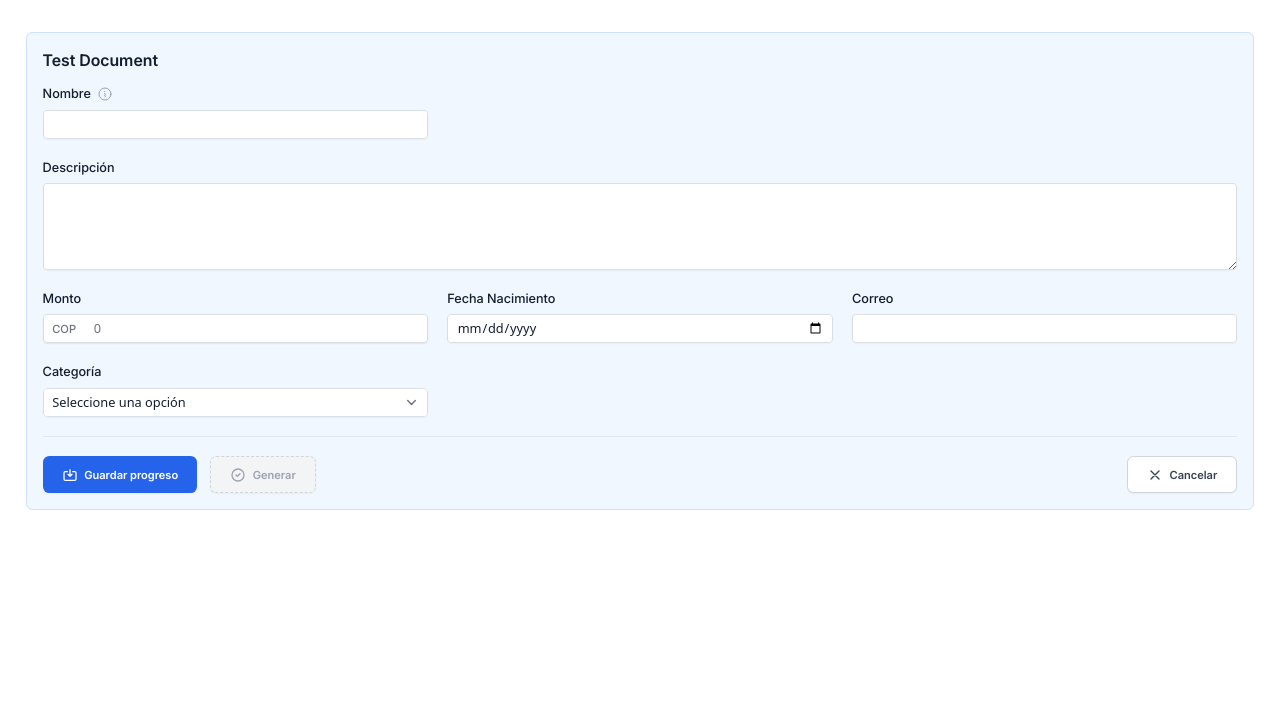
Scenario: DocumentForm.vue › complete/generate button becomes enabled when all fields are filled
This screenshot has width=1280, height=720.
# quality: allow-fragile-selector (stable DOM ids generated by component for each field)
Type "John Doe" into the field labelled "Nombre" at (235, 124), box top-left (43, 110), bottom-right (428, 139)
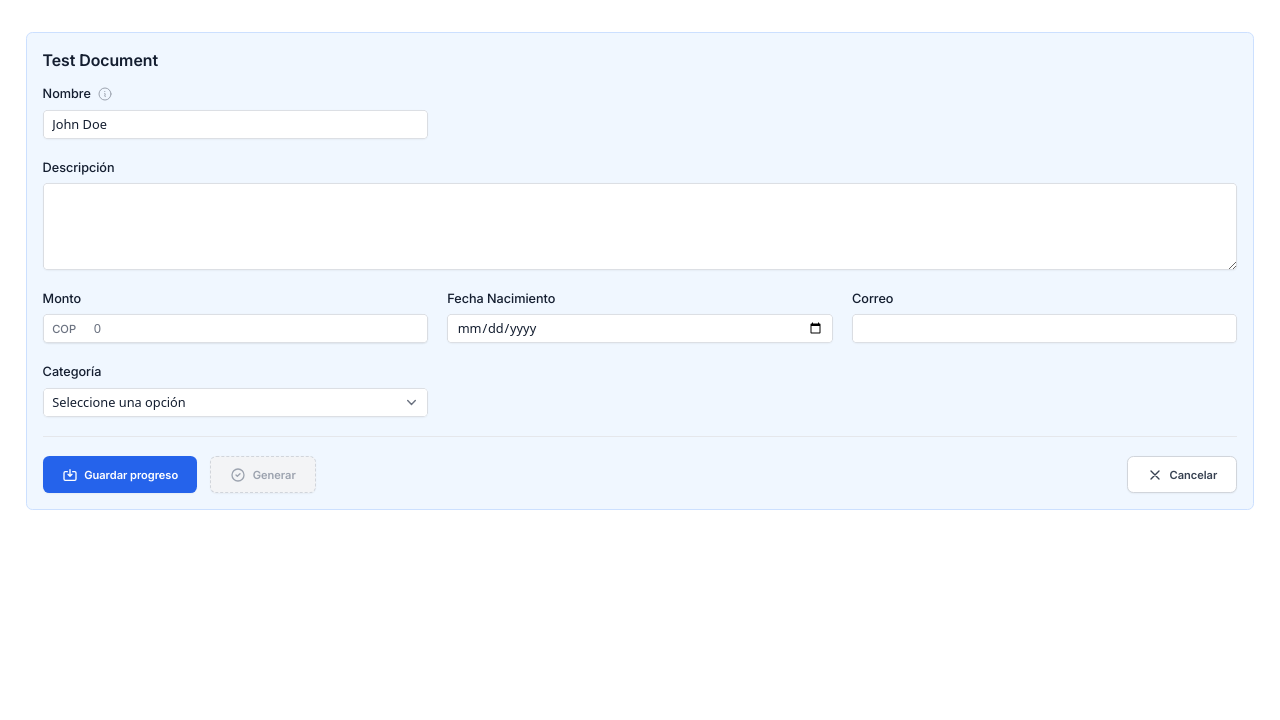
Type "A description" into the text box labelled "Descripción" at (640, 227), box top-left (43, 183), bottom-right (1237, 270)
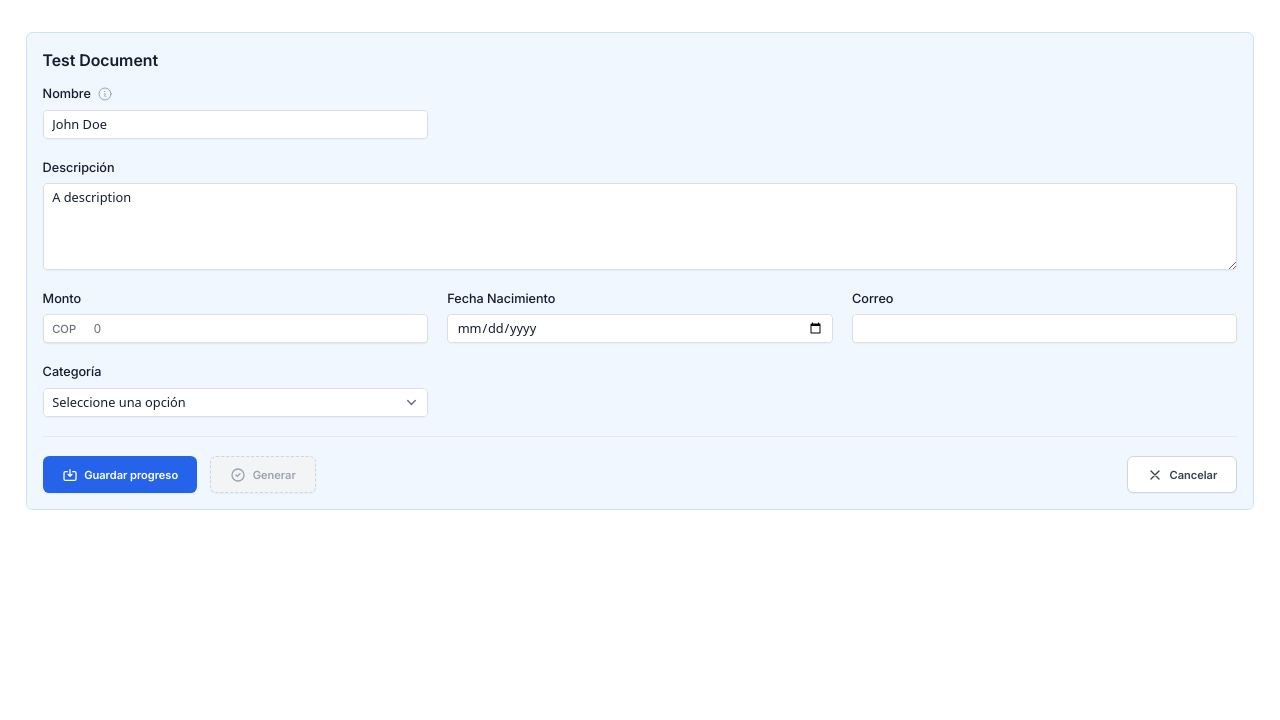
Type "5000" into the field labelled "Monto" at (235, 329), box top-left (43, 314), bottom-right (428, 343)
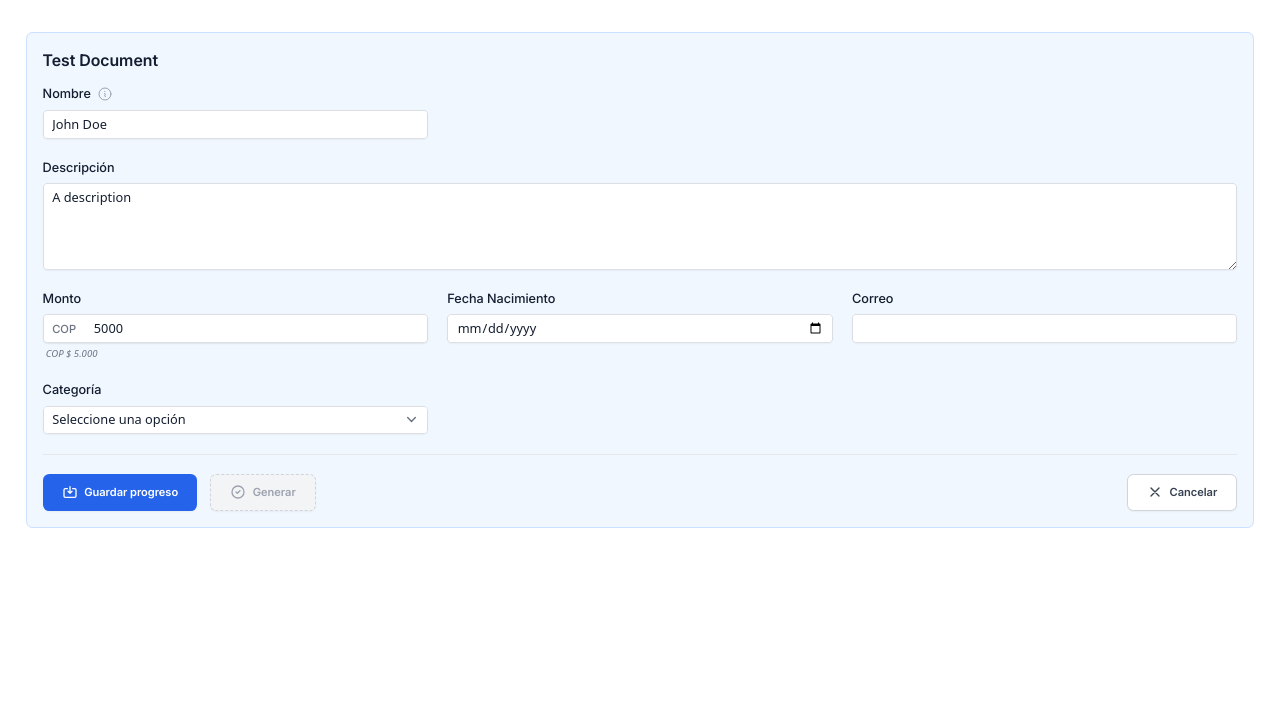
Type "2025-01-01" into the date field labelled "Fecha Nacimiento" at (640, 329), box top-left (447, 314), bottom-right (833, 343)
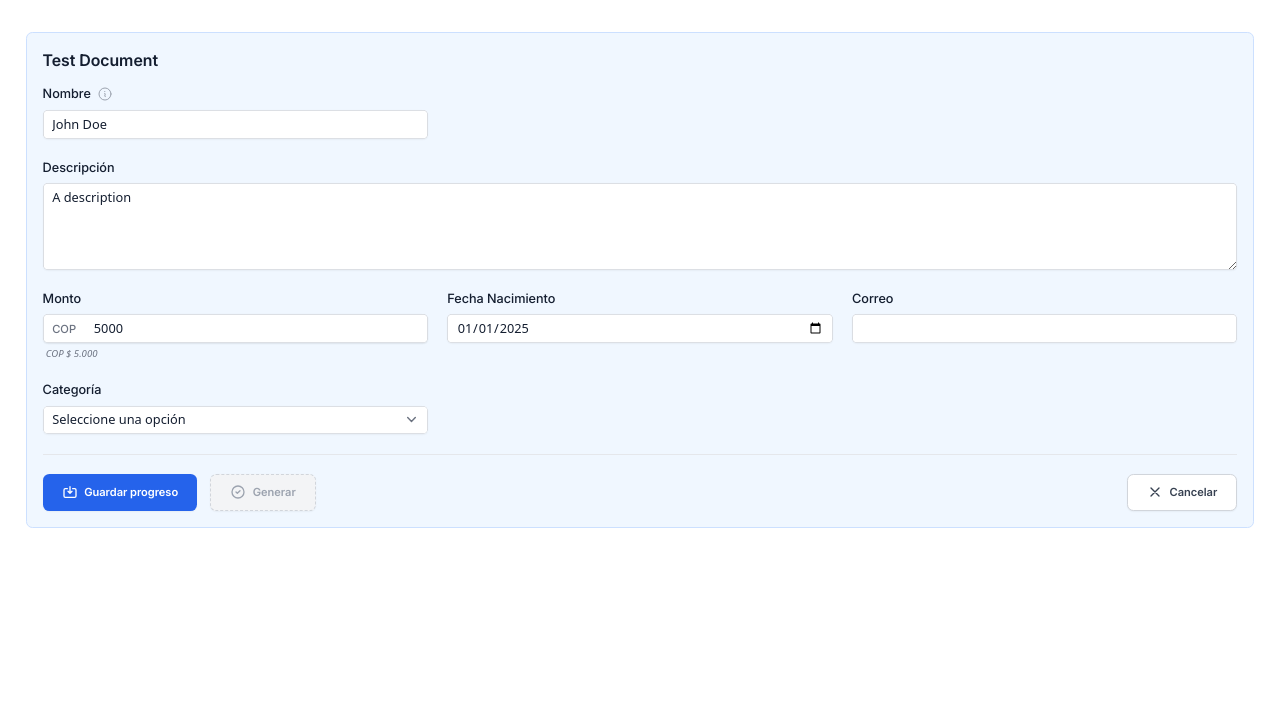
Type "john@test.com" into the field labelled "Correo" at (1045, 329), box top-left (852, 314), bottom-right (1237, 343)
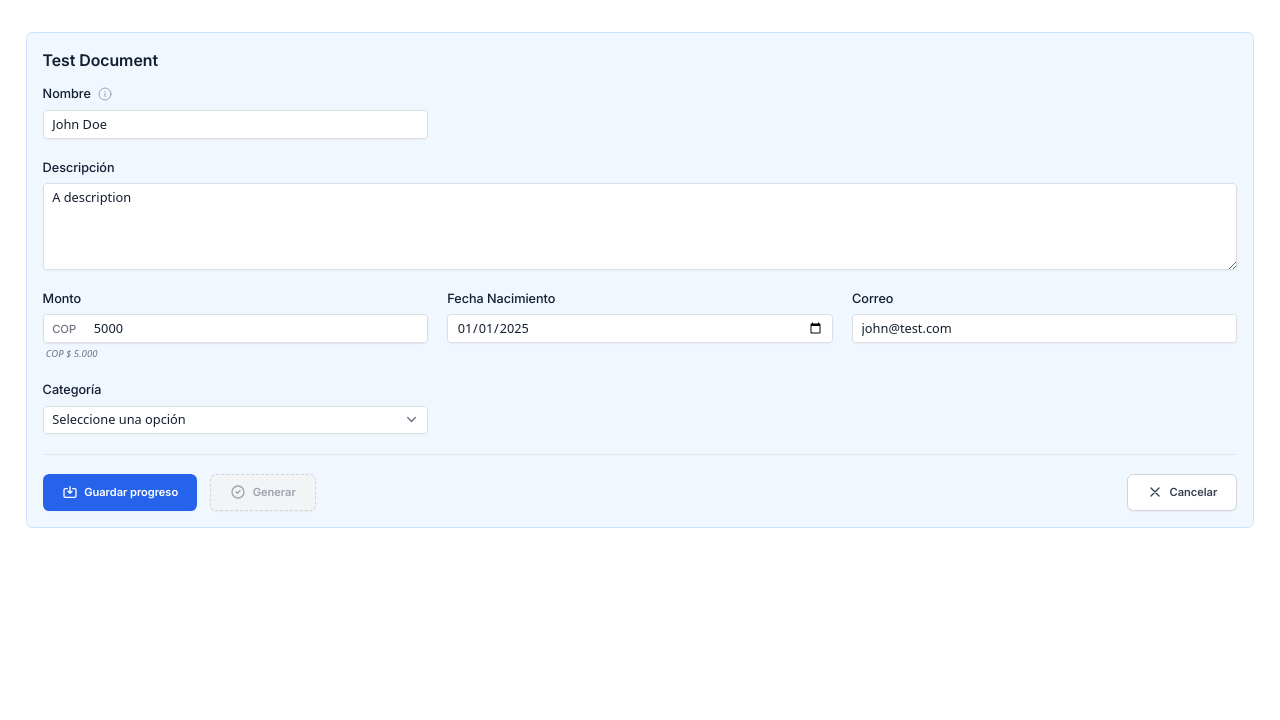
Select "Option A" in the dropdown labelled "Categoría" at (235, 420), box top-left (43, 406), bottom-right (428, 434)
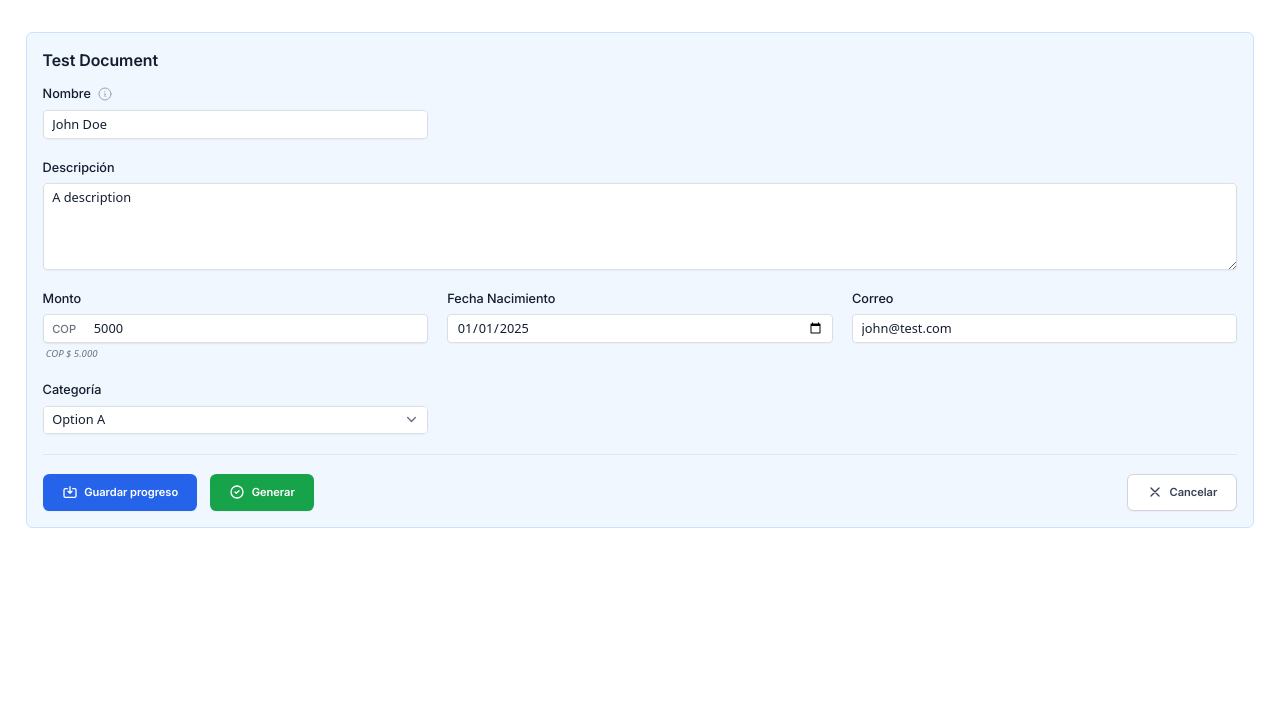
Expected: the button "Generar" is enabled, top-left (210, 474), bottom-right (314, 511)
